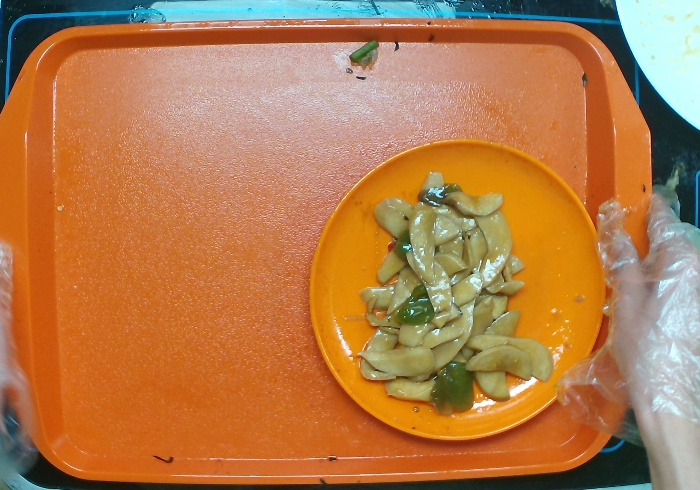HZYJPL-Ju_Huang_Yuan_Pan: (307, 137, 608, 442)
